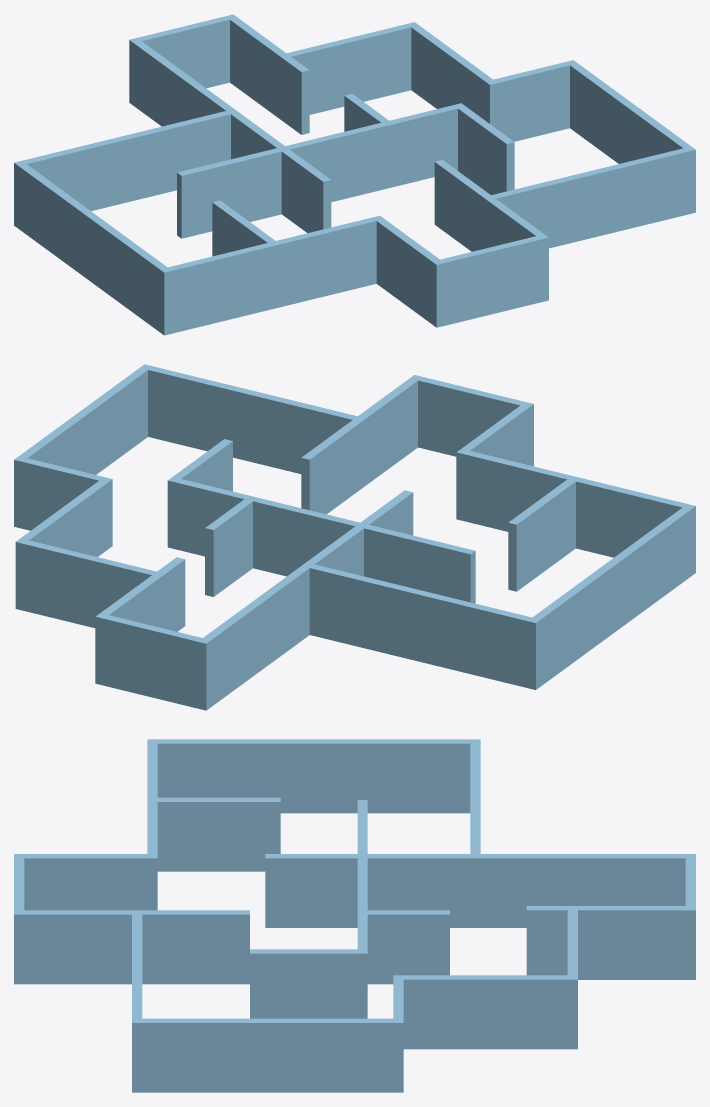
Rendered from Room_01.dae.
3 renders of one model, top to bottom at view 1: azimuth 30°, elevation 25°; view 2: azimuth 150°, elevation 25°; view 3: azimuth 270°, elevation 25°, orthographic. The views are drawn at different scales.
Visible parts, largest first — view 1: ID2; view 2: ID2; view 3: ID2.
Part boxes in pixels (bbox=[...]): ID2: bbox=[14, 14, 695, 335]; ID2: bbox=[14, 364, 695, 710]; ID2: bbox=[14, 739, 695, 1092].
Size of the model in its own units: 13.1 by 13.3 by 1.5.
